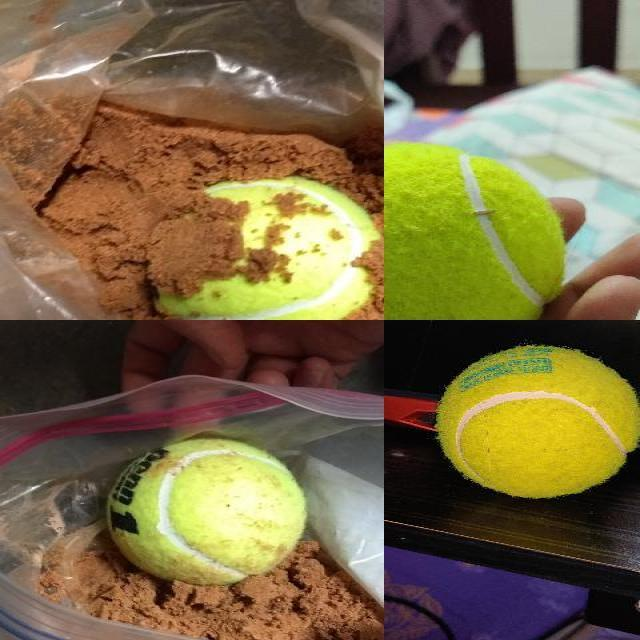tennis-ball: (149, 174, 383, 319), (383, 141, 570, 319), (432, 343, 639, 499), (104, 436, 308, 586)
